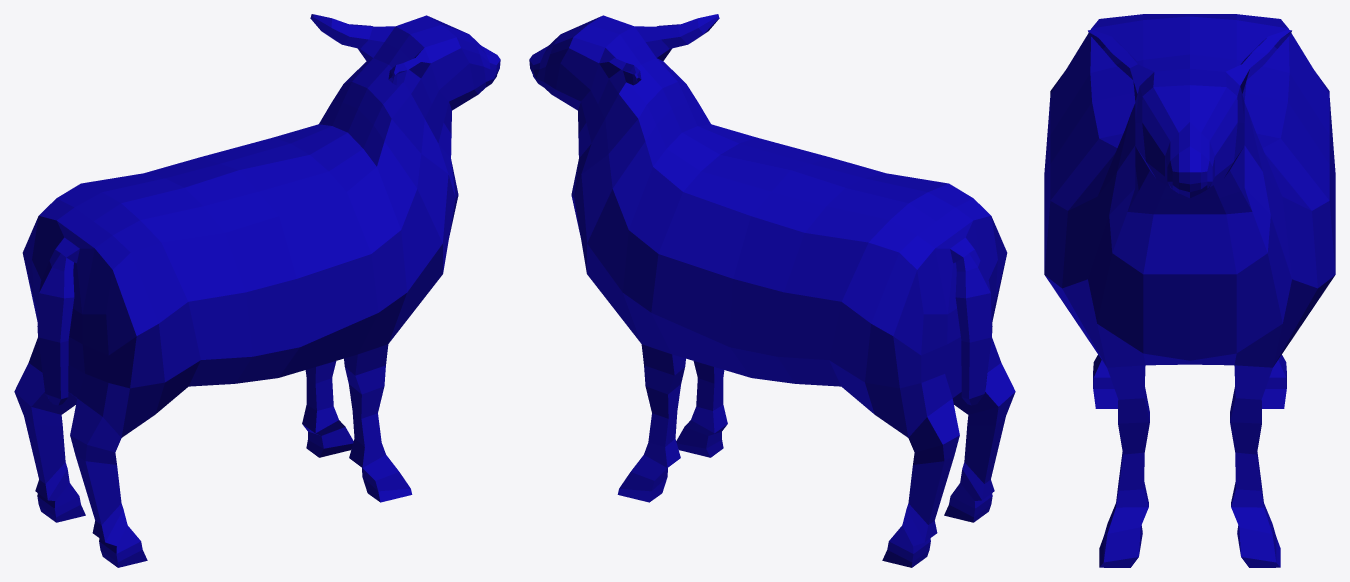
The model's file is sheepModel.gltf.
The picture shows the model from 3 angles, left to right: view 1: azimuth 30°, elevation 25°; view 2: azimuth 150°, elevation 25°; view 3: azimuth 270°, elevation 25°; orthographic projection. The views are drawn at different scales.
Parts seen in each view (by area): view 1: Sheep; view 2: Sheep; view 3: Sheep.
Part boxes in pixels (left/top/right/bottom): Sheep: left=14, top=14, right=500, bottom=567; Sheep: left=529, top=14, right=1015, bottom=567; Sheep: left=1044, top=14, right=1335, bottom=567.
Bounding box in the file's own units: 1.3 × 1.16 × 0.5829.
